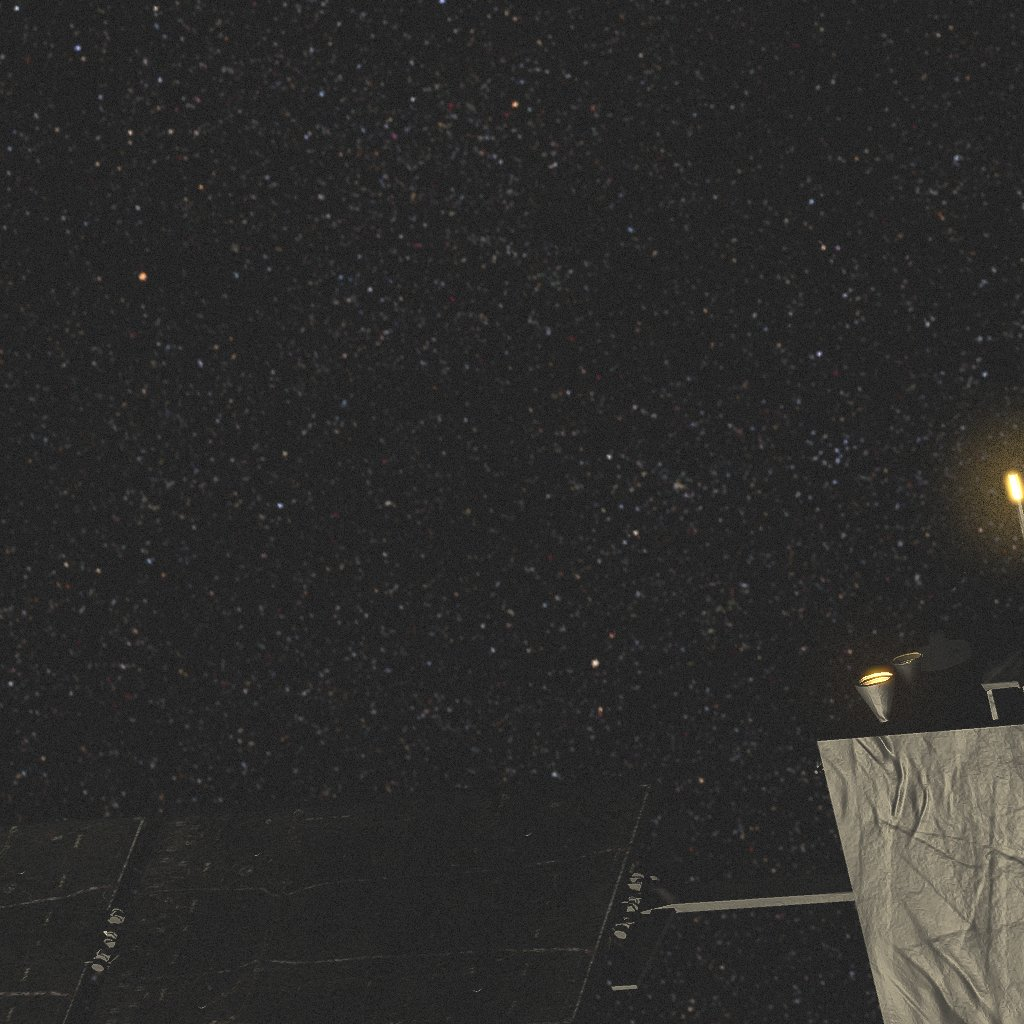smart_1: (0, 473, 1024, 1024)
